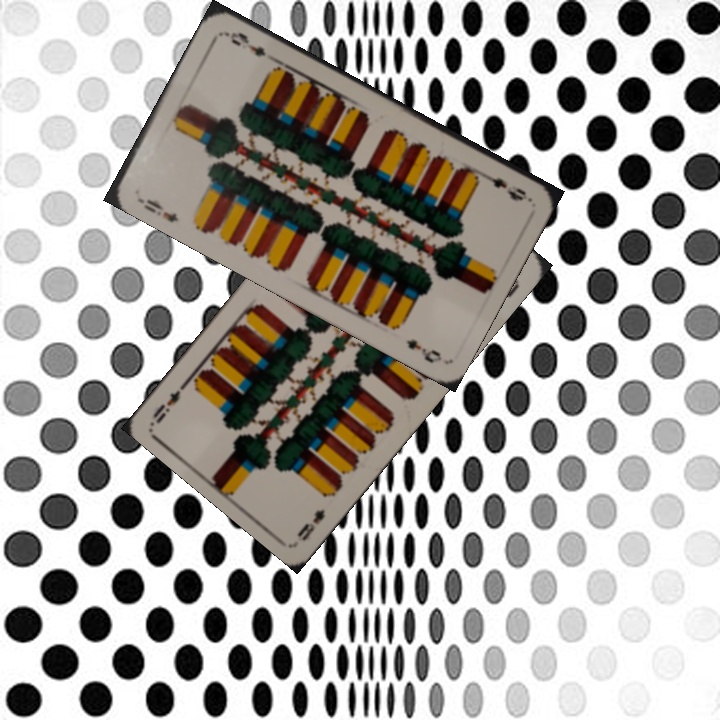E9: (474, 168, 530, 204), (133, 193, 181, 225), (292, 505, 328, 544)
